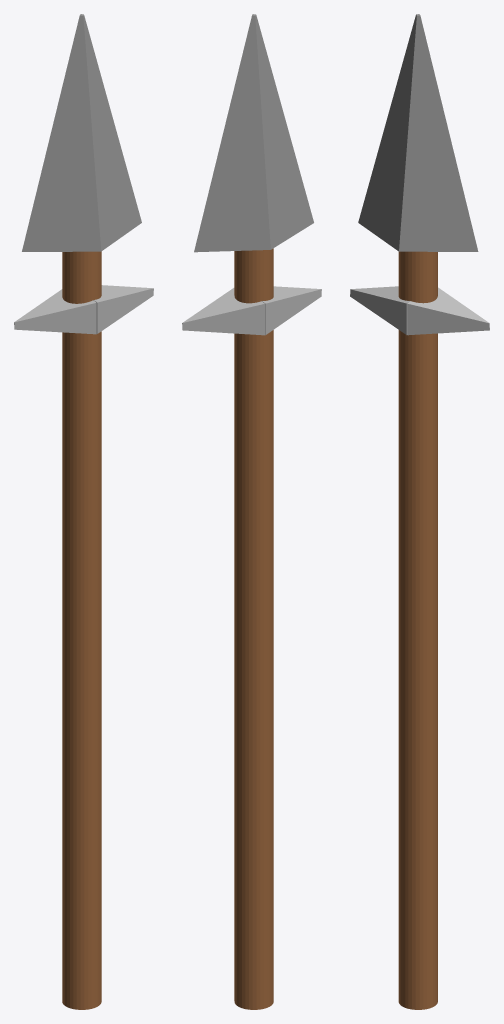
Rendered from spear.fbx.
The picture shows the model from 3 angles, left to right: view 1: azimuth 30°, elevation 25°; view 2: azimuth 210°, elevation 25°; view 3: azimuth 330°, elevation 25°; orthographic projection.
Parts seen in each view (by area): view 1: 立方体.001; view 2: 立方体.001; view 3: 立方体.001.
Part boxes in pixels (<box>): 立方体.001: <box>14,14,153,1009</box>; 立方体.001: <box>182,14,321,1009</box>; 立方体.001: <box>350,14,489,1009</box>.
Bounding box in the file's own units: 164 × 1108 × 73.66.
